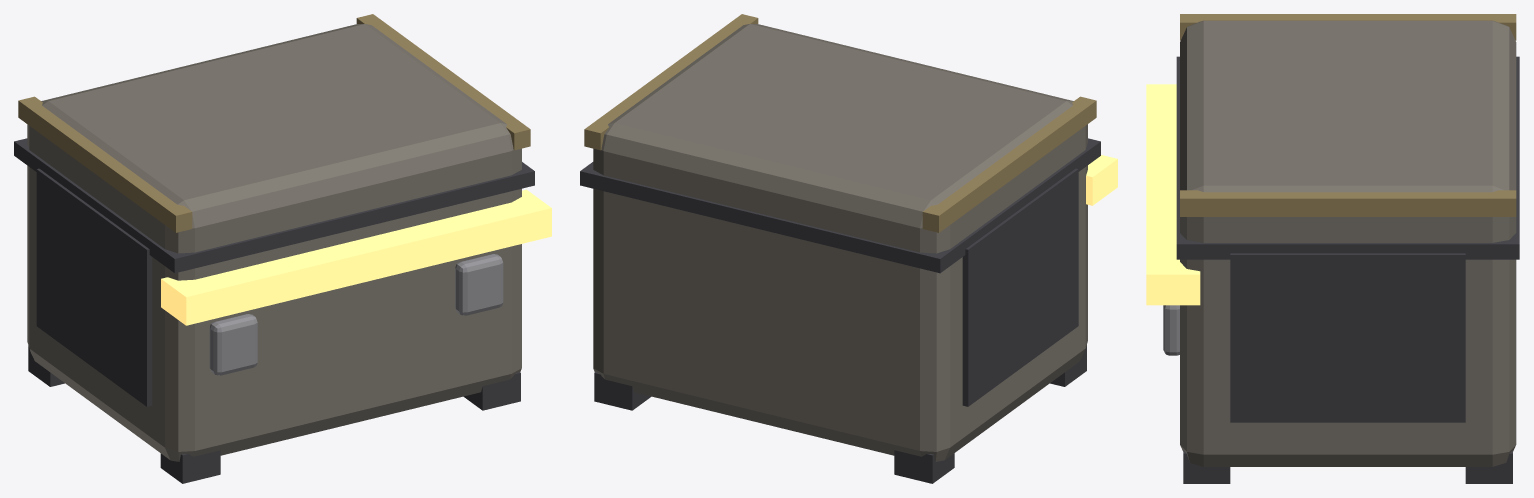
File: pp_crate_mk2.glb
3 views of the same model, side by side, from view 1: azimuth 30°, elevation 25°; view 2: azimuth 150°, elevation 25°; view 3: azimuth 270°, elevation 25° (orthographic). The views are drawn at different scales.
Visible parts, largest first — view 1: cbody, panel2, warn, seam, cap-0.62, latch-0.45, latch0.45, cap0.62, foot-0.55-0.42, foot0.55-0.42; view 2: cbody, panel2, seam, cap-0.62, cap0.62, foot-0.550.42, warn, foot0.550.42; view 3: cbody, panel, cap0.62, warn, seam, cap-0.62, foot0.55-0.42, foot0.550.42, latch0.45.
Part boxes in pixels (x1,y1,x2,y2): cbody: (27, 24, 521, 461); panel2: (36, 168, 152, 406); warn: (161, 189, 551, 325); seam: (14, 138, 534, 273); cap-0.62: (18, 96, 192, 232); latch-0.45: (209, 314, 257, 375); latch0.45: (455, 254, 503, 315); cap0.62: (356, 14, 530, 150); foot-0.55-0.42: (160, 450, 220, 483); foot0.55-0.42: (463, 372, 520, 410); cbody: (593, 24, 1087, 461); panel2: (962, 168, 1078, 406); seam: (580, 138, 1100, 273); cap-0.62: (922, 96, 1096, 232); cap0.62: (584, 14, 758, 150); foot-0.550.42: (894, 450, 954, 483); warn: (1086, 155, 1117, 205); foot0.550.42: (594, 372, 651, 410); cbody: (1180, 20, 1516, 466); panel: (1230, 253, 1465, 422); cap0.62: (1180, 190, 1516, 216); warn: (1146, 84, 1200, 305); seam: (1176, 56, 1519, 259); cap-0.62: (1180, 14, 1516, 40); foot0.55-0.42: (1183, 450, 1230, 483); foot0.550.42: (1465, 450, 1512, 483); latch0.45: (1163, 305, 1179, 355).
Bounding box in the file's own units: 1.34 × 0.96 × 1.11.
